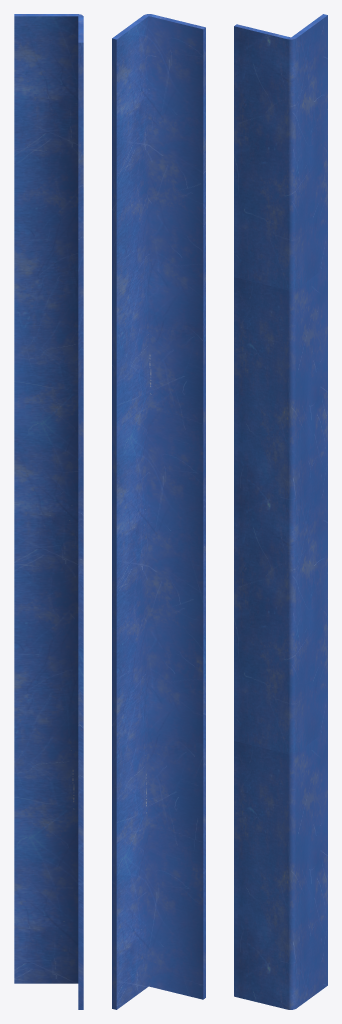
Rendered from SM_MetalBorder.fbx.
3 renders of one model, left to right at view 1: azimuth 90°, elevation 25°; view 2: azimuth 150°, elevation 25°; view 3: azimuth 330°, elevation 25°, orthographic.
Parts seen in each view (by area): view 1: pCube25; view 2: pCube25; view 3: pCube25.
Part boxes in pixels (x1,y1,x2,y2): pCube25: (14, 14, 83, 1009); pCube25: (112, 14, 205, 1009); pCube25: (234, 14, 327, 1009).
Bounding box in the file's own units: 43.49 × 682 × 44.34.
